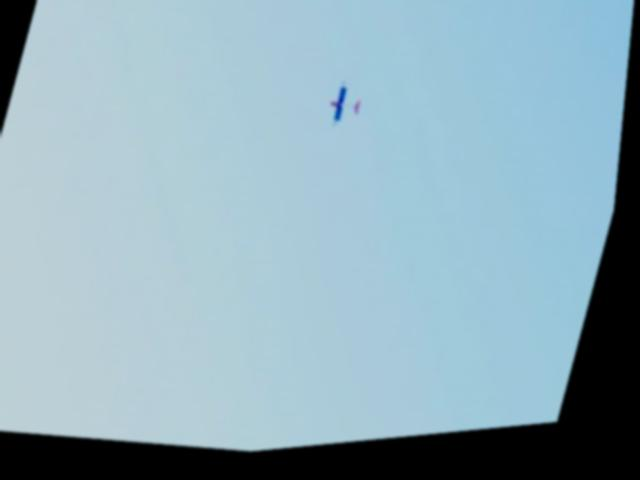uav: (324, 80, 374, 142)
